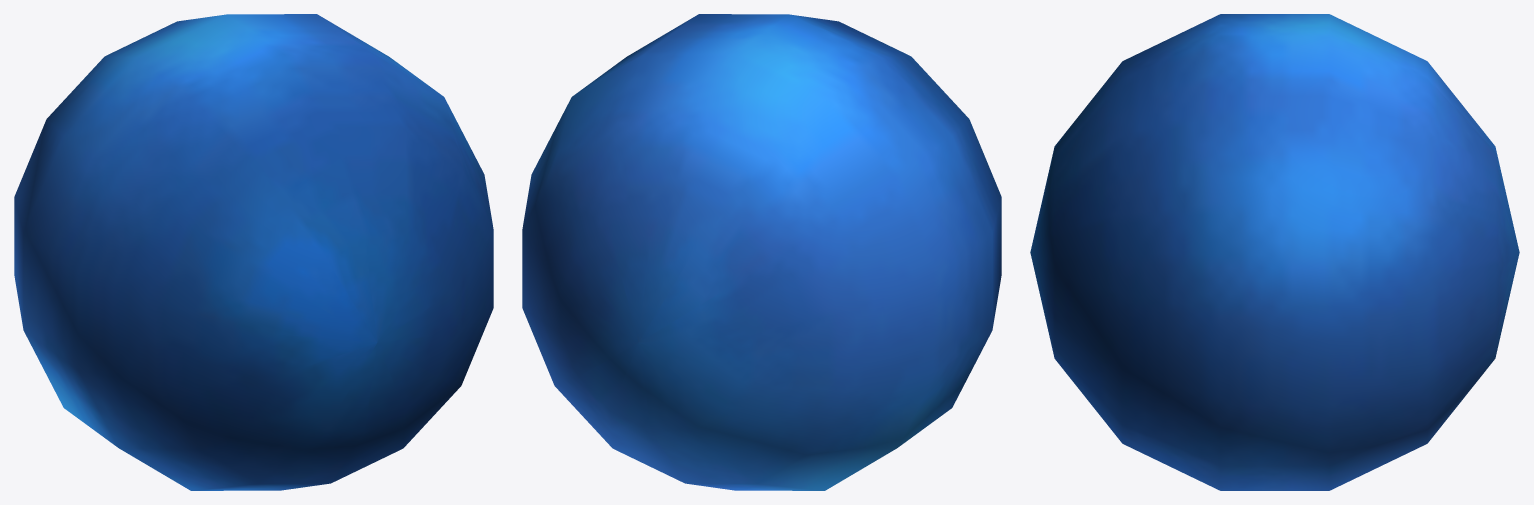
File: sadness_memory_ball_prop.obj
3 renders of one model, left to right at view 1: azimuth 30°, elevation 25°; view 2: azimuth 150°, elevation 25°; view 3: azimuth 270°, elevation 25°, orthographic.
Visible parts, largest first — view 1: sadness_memory_ball_prop; view 2: sadness_memory_ball_prop; view 3: sadness_memory_ball_prop.
Boxes of the visible parts, <box> form: sadness_memory_ball_prop: <box>14,14,493,490</box>; sadness_memory_ball_prop: <box>522,14,1001,490</box>; sadness_memory_ball_prop: <box>1030,14,1519,490</box>.
Bounding box in the file's own units: 133 × 136 × 140.
1 material, 1 textured.
